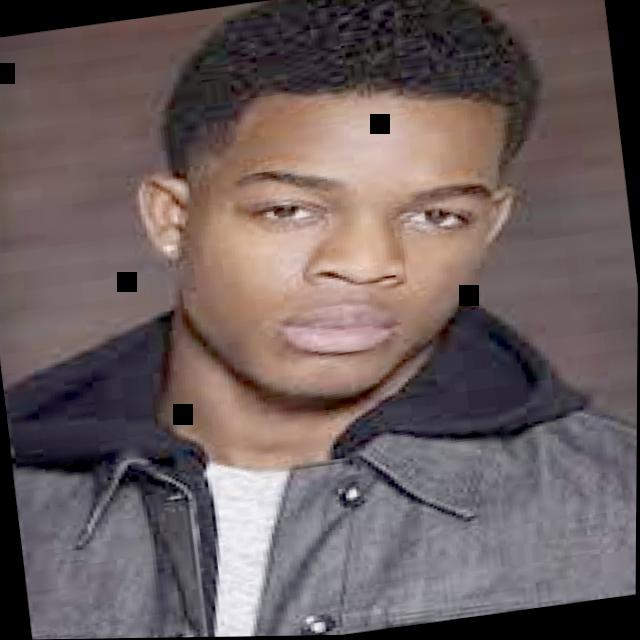NO-Mask: (173, 102, 538, 419)
